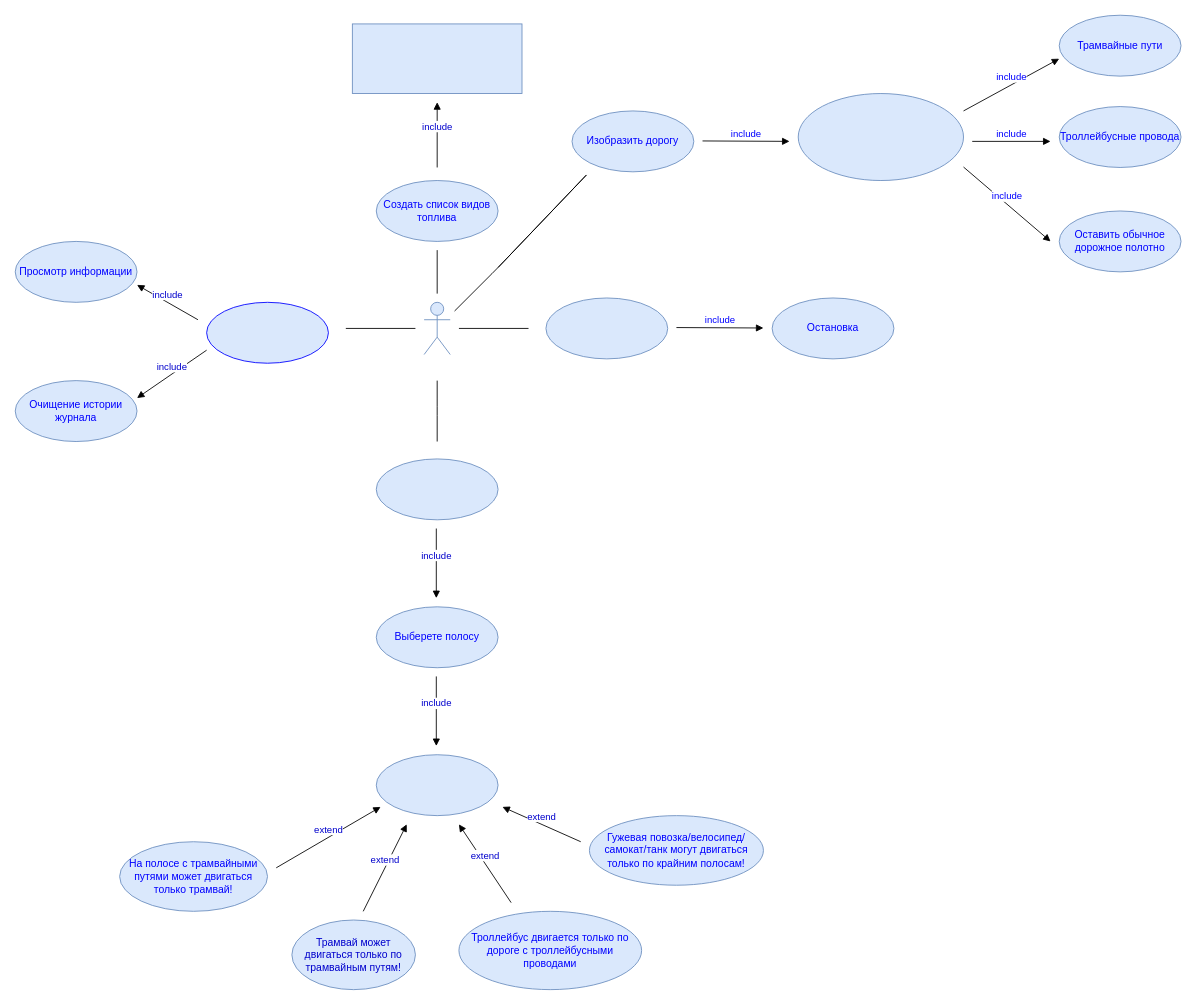
Some shapes in this 1196 by 1005 pixel diagram are drawn without their labels. Here are the shapes that lost their labels. From the top down, the centre of each, then its label:
point (436, 58): 1) Дизель; 2) Энергия; 3) Бензин; 4) Газ.
point (880, 137): Выберете для n полосы (от первой до пятой) дополнительные сооружения
point (267, 332): Журнал
point (436, 328): Пользователь
point (606, 328): Старт
point (436, 489): Создать ТС
point (436, 785): Выберете тип ТС
